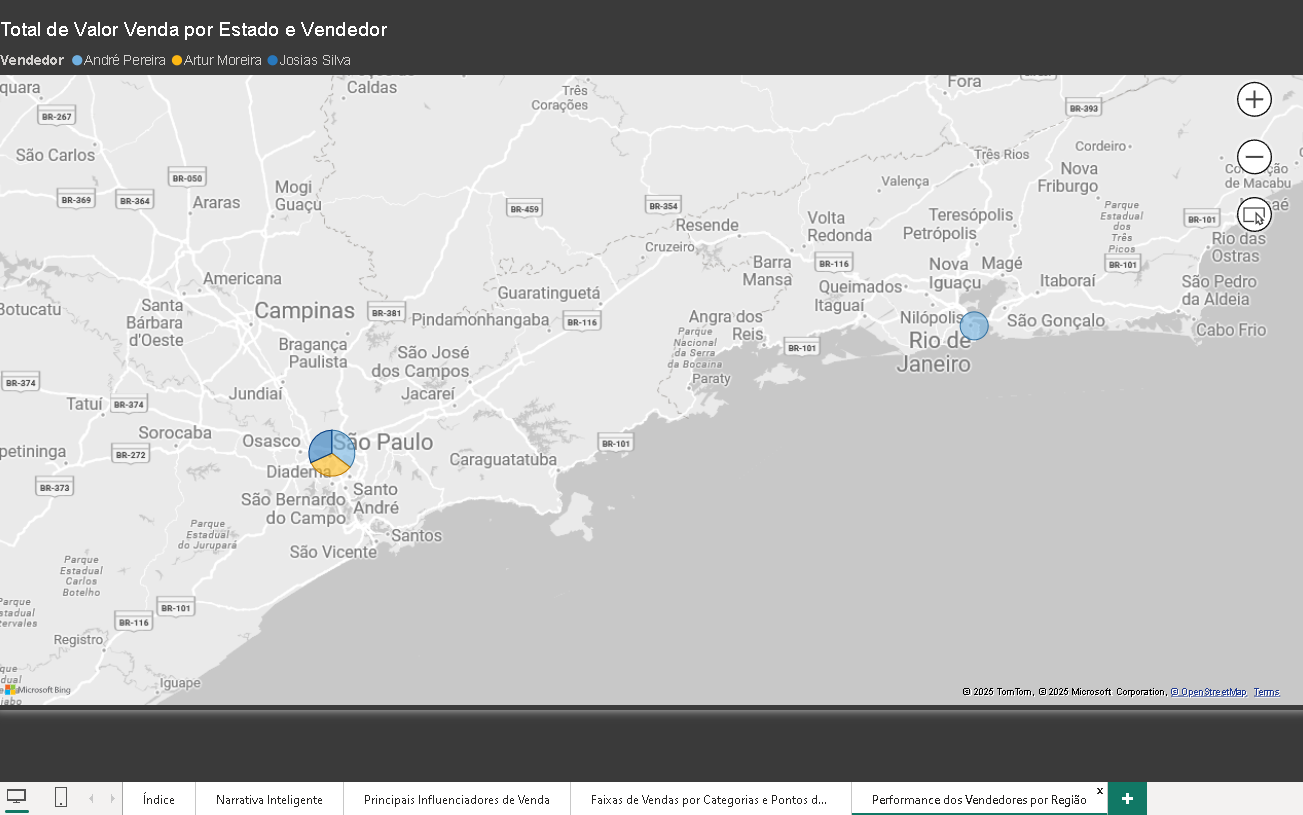

What the dashboard file says about the page in this screenshot:
{"tool":"powerbi","page":{"name":"Performance dos Vendedores por Região","canvas":[1280,720],"ordinal":4},"visuals":[{"type":"map","fields":{"Category":["Vendas.Estado"],"Series":["Vendas.Vendedor"],"Size":["Sum(Vendas.ValorVenda)"]},"box":[0,45.7,1280,674],"z":0}]}

Visuals, with their boxes on the page's 1280x720 design canvas (x1, y1, x2, y2). These are canvas units, not pixel positions in the 1303x815 screenshot, which may show the page scaled, cropped or inside an application window:
map - Vendas.Estado x Vendas.Vendedor: 0,46,1280,720
